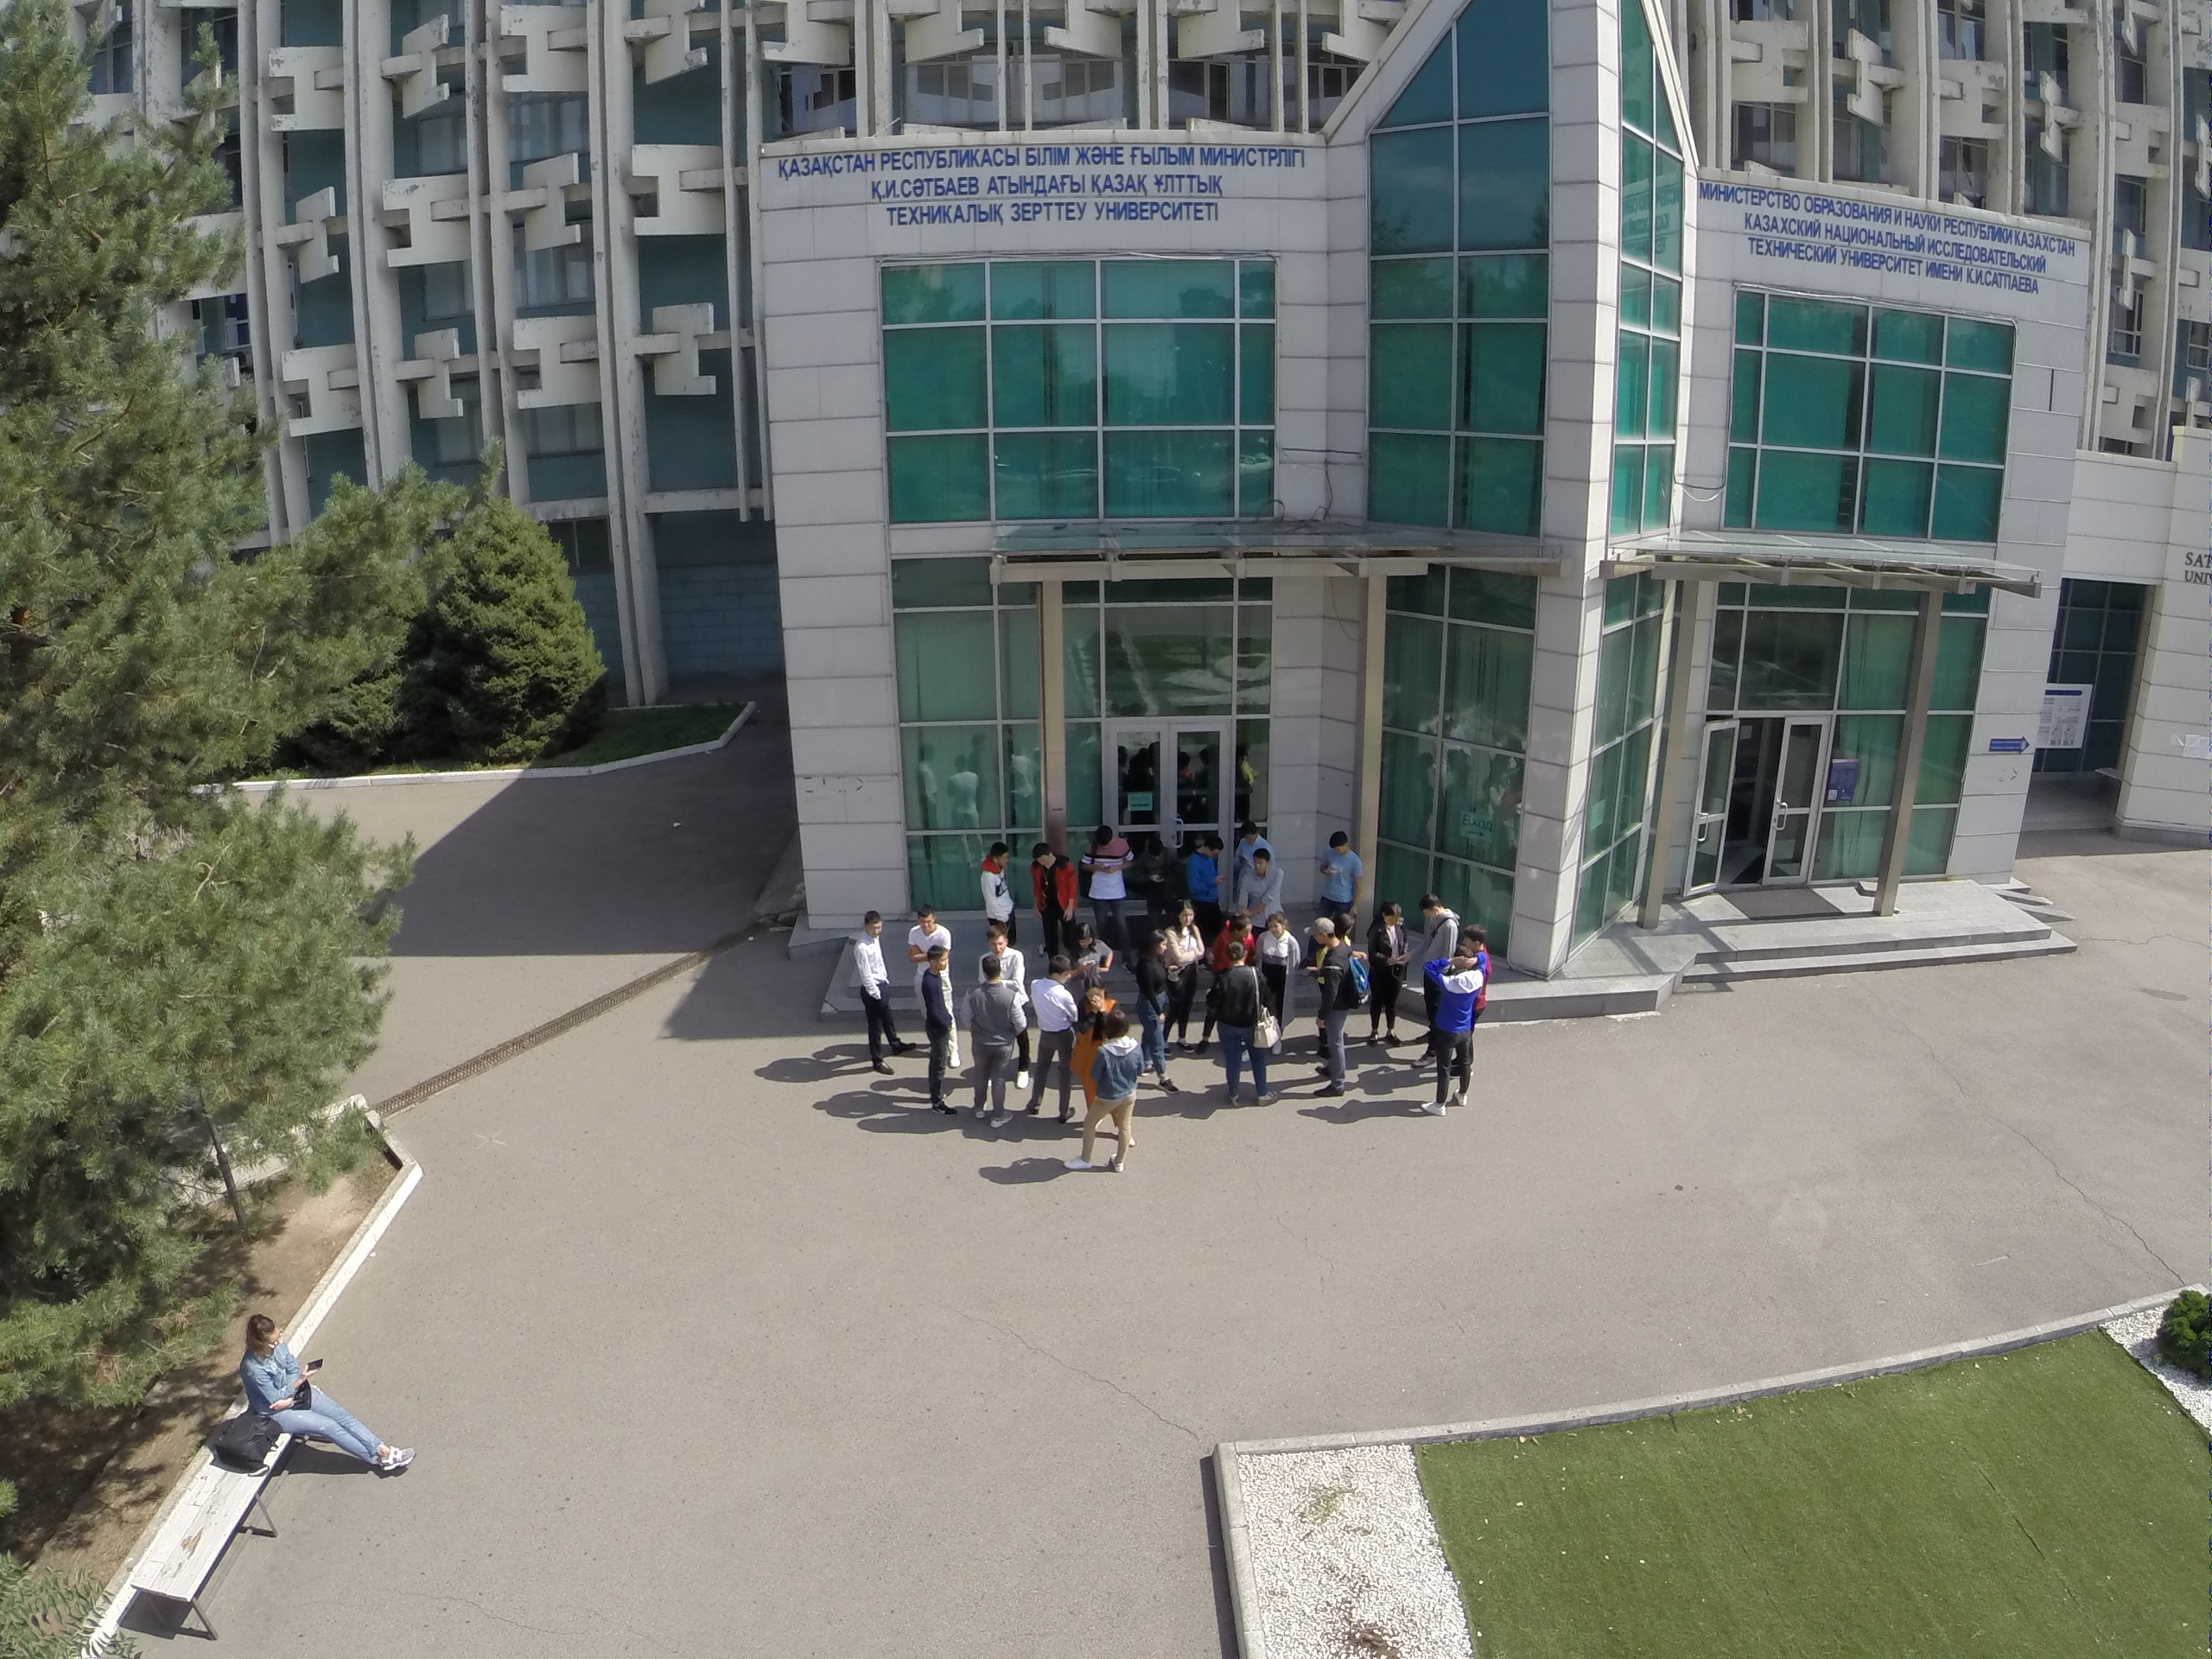person: (229, 1304, 404, 1497), (1067, 1020, 1146, 1189), (1419, 950, 1489, 1124), (1208, 944, 1281, 1107), (1300, 916, 1361, 1102), (971, 959, 1026, 1134), (1033, 958, 1084, 1140), (857, 905, 909, 1081), (1132, 931, 1184, 1094), (1028, 840, 1084, 963), (925, 948, 963, 1117), (1366, 899, 1405, 1052), (1081, 819, 1135, 932), (1168, 902, 1198, 1058), (1317, 830, 1366, 917), (978, 846, 1025, 937), (1236, 852, 1292, 921), (1257, 915, 1297, 1014), (1403, 892, 1460, 955), (1462, 929, 1497, 1023), (1184, 823, 1222, 910), (1139, 838, 1179, 912), (912, 902, 949, 950), (1230, 817, 1268, 856)
